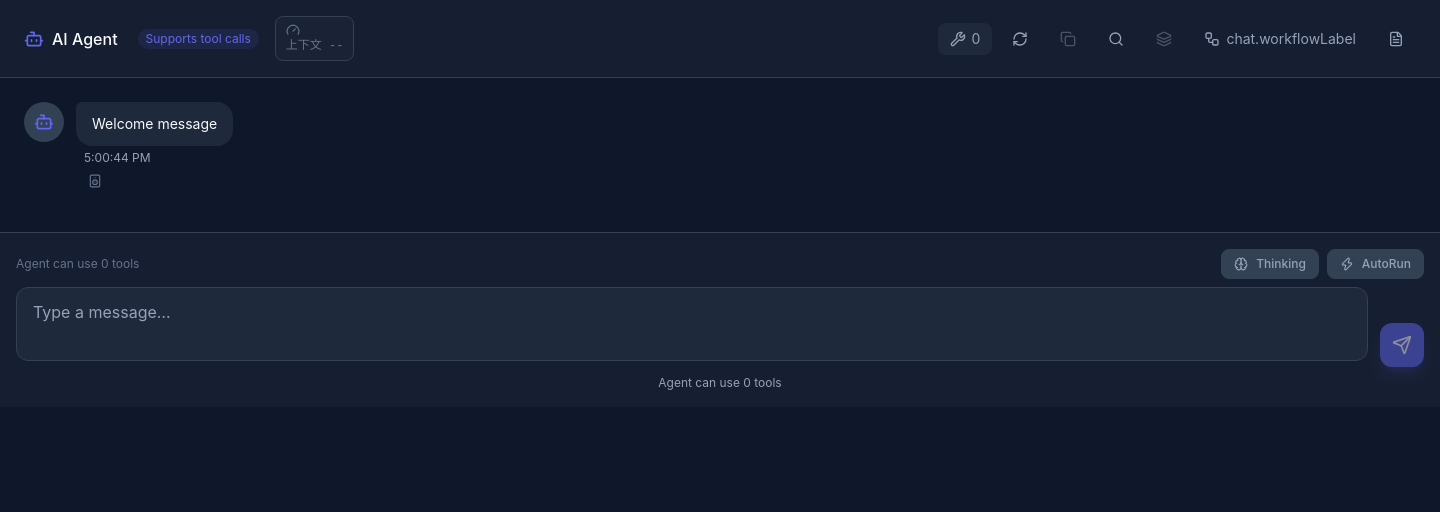
Scenario: AgentChat › shows search results when they exist
Click the button titled "Search conversation": click(1116, 38) [1096, 24, 1136, 52]
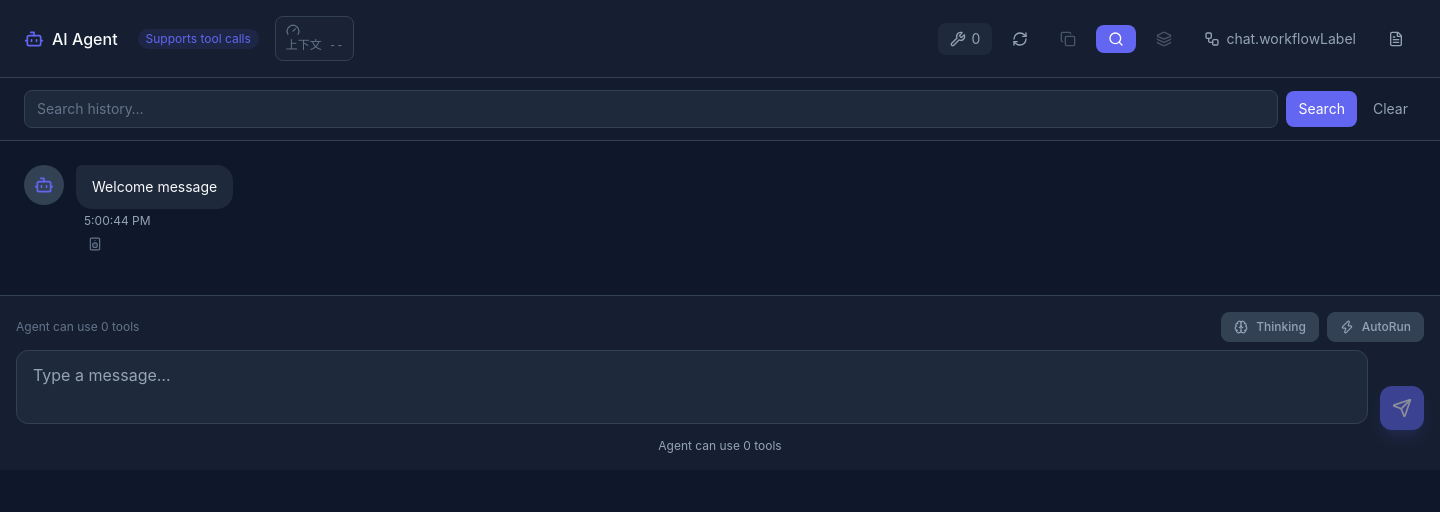
In the field with placeholder "Search history…": (651, 109) [24, 90, 1278, 128], type "foo"
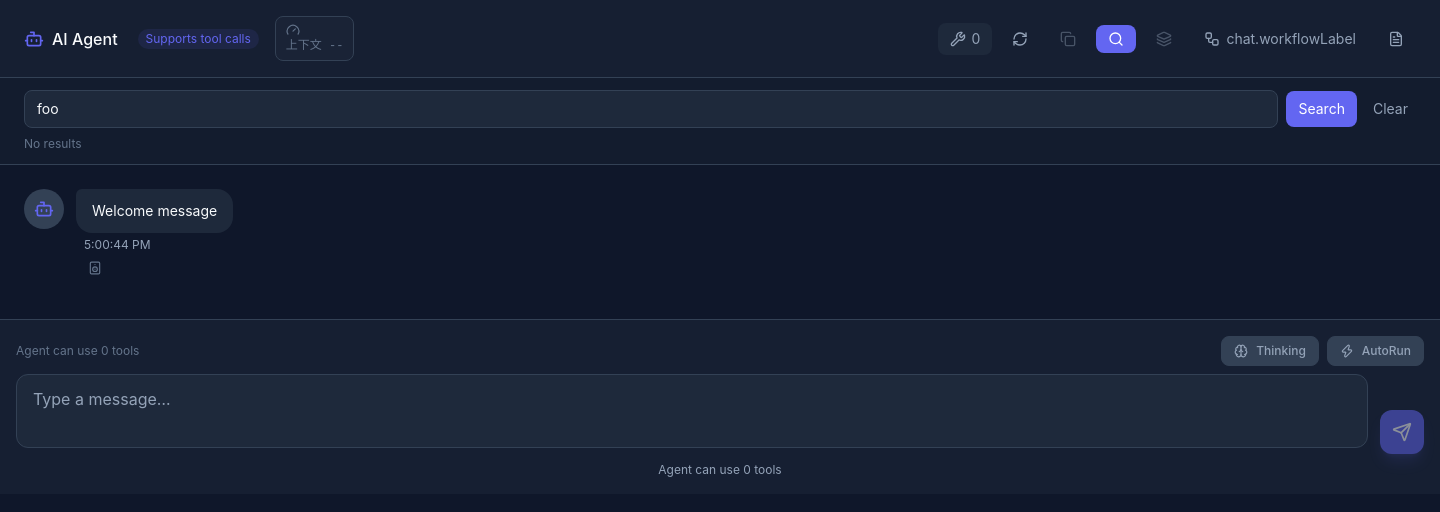
Click the button "Search": click(1322, 109) [1286, 91, 1357, 127]
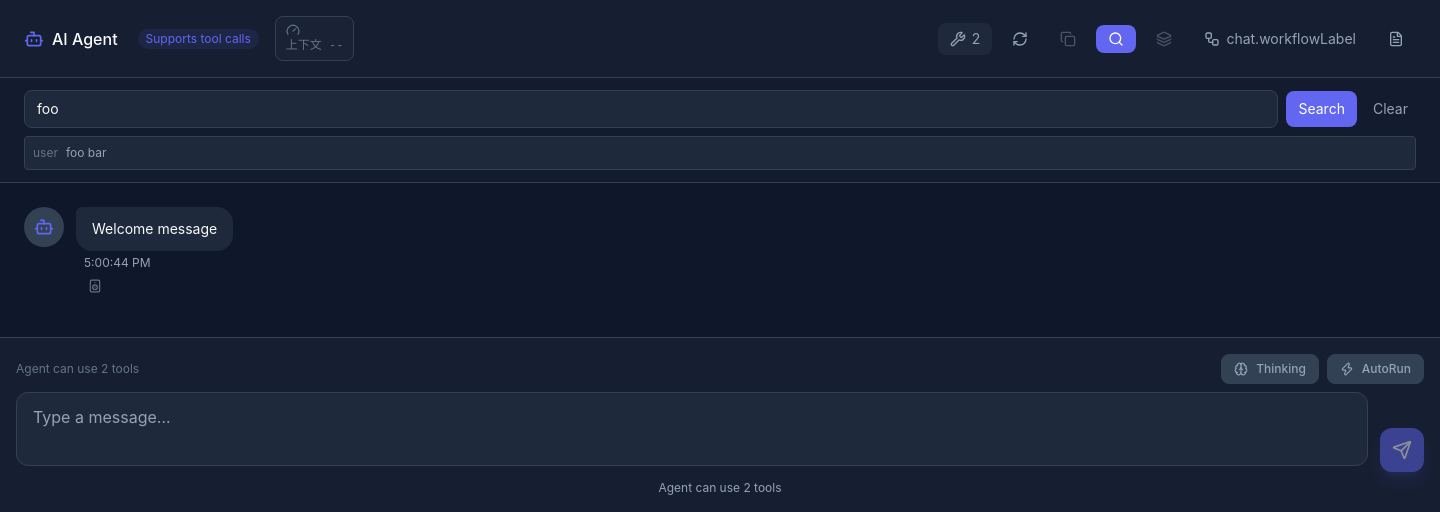
Expected: the text "foo bar" is shown, [66, 145, 107, 160]
